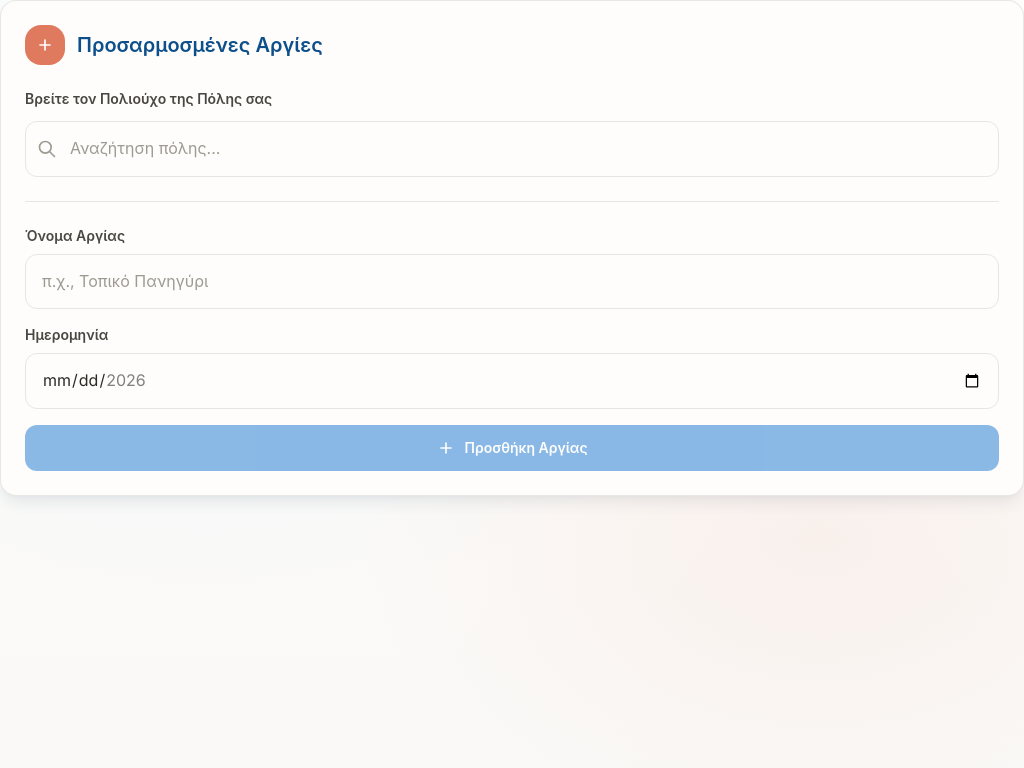
Scenario: CustomHolidaysCard › Town Search › should show calculated date for movable feasts in dropdown
This screenshot has width=1024, height=768.
Type "Αίγιο" into the field with placeholder "Αναζήτηση πόλης..." at point(512, 149), box [25,121,999,177]
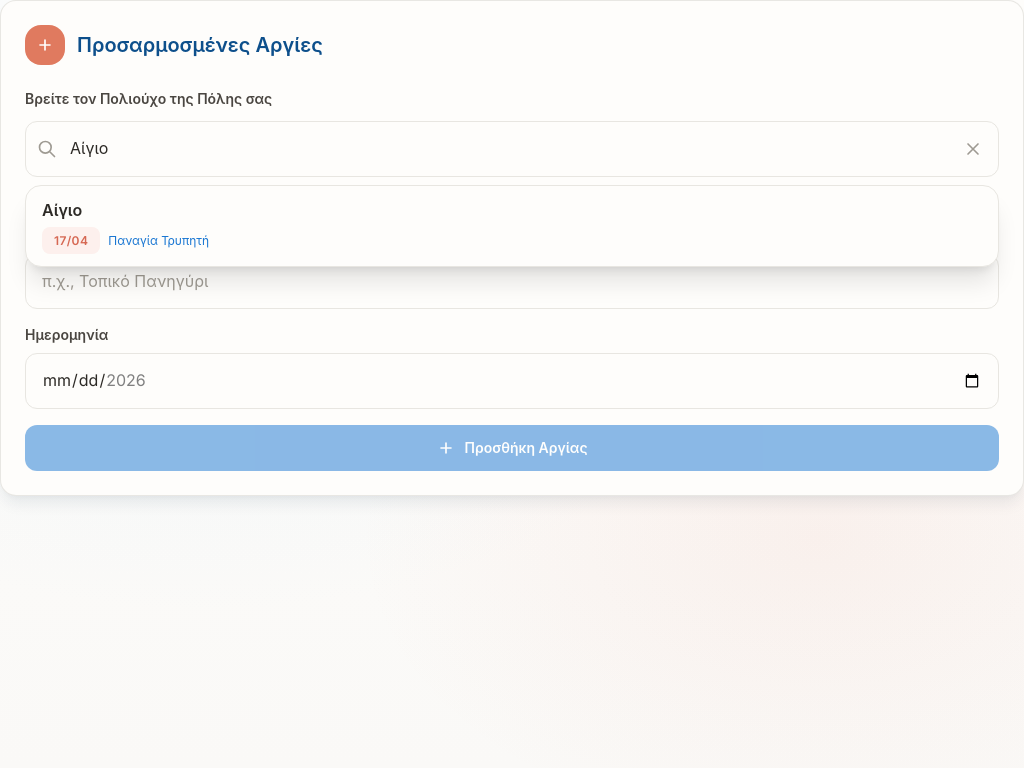
Check: the element with class "z-20" is shown, box [25,185,999,267]
Check: the element with class "z-20" shows "17/04", box [26,186,998,266]
